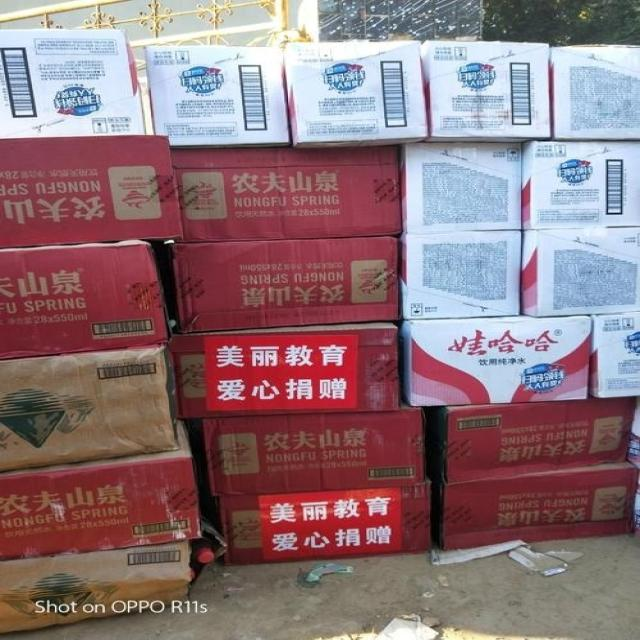box: (0, 417, 199, 558), (0, 518, 222, 637), (164, 234, 400, 335), (0, 341, 180, 470), (171, 148, 401, 243), (174, 324, 399, 416), (0, 244, 172, 359), (0, 139, 179, 249), (200, 409, 427, 495), (427, 462, 639, 550), (423, 397, 637, 484), (402, 316, 593, 406), (218, 484, 432, 564), (0, 30, 147, 139), (279, 41, 430, 146), (144, 46, 292, 145), (422, 43, 554, 142), (519, 224, 639, 317), (401, 231, 519, 324), (522, 140, 639, 232), (405, 144, 520, 233), (549, 44, 639, 141), (592, 310, 639, 397)
